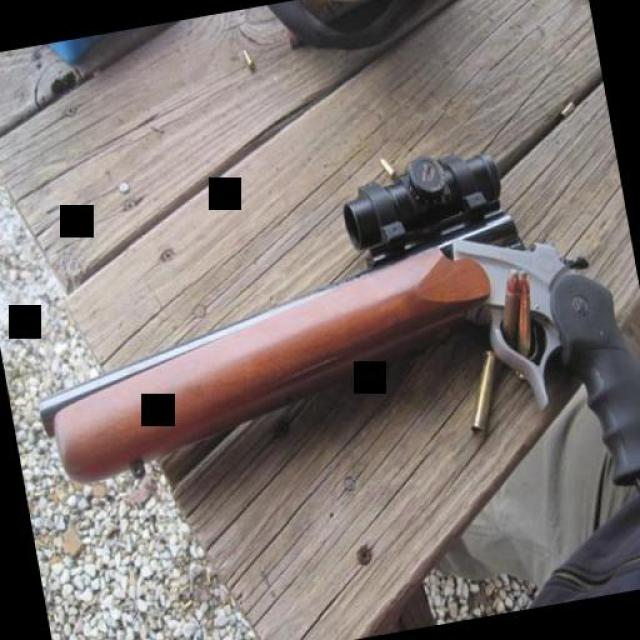gun: (7, 137, 640, 591)
